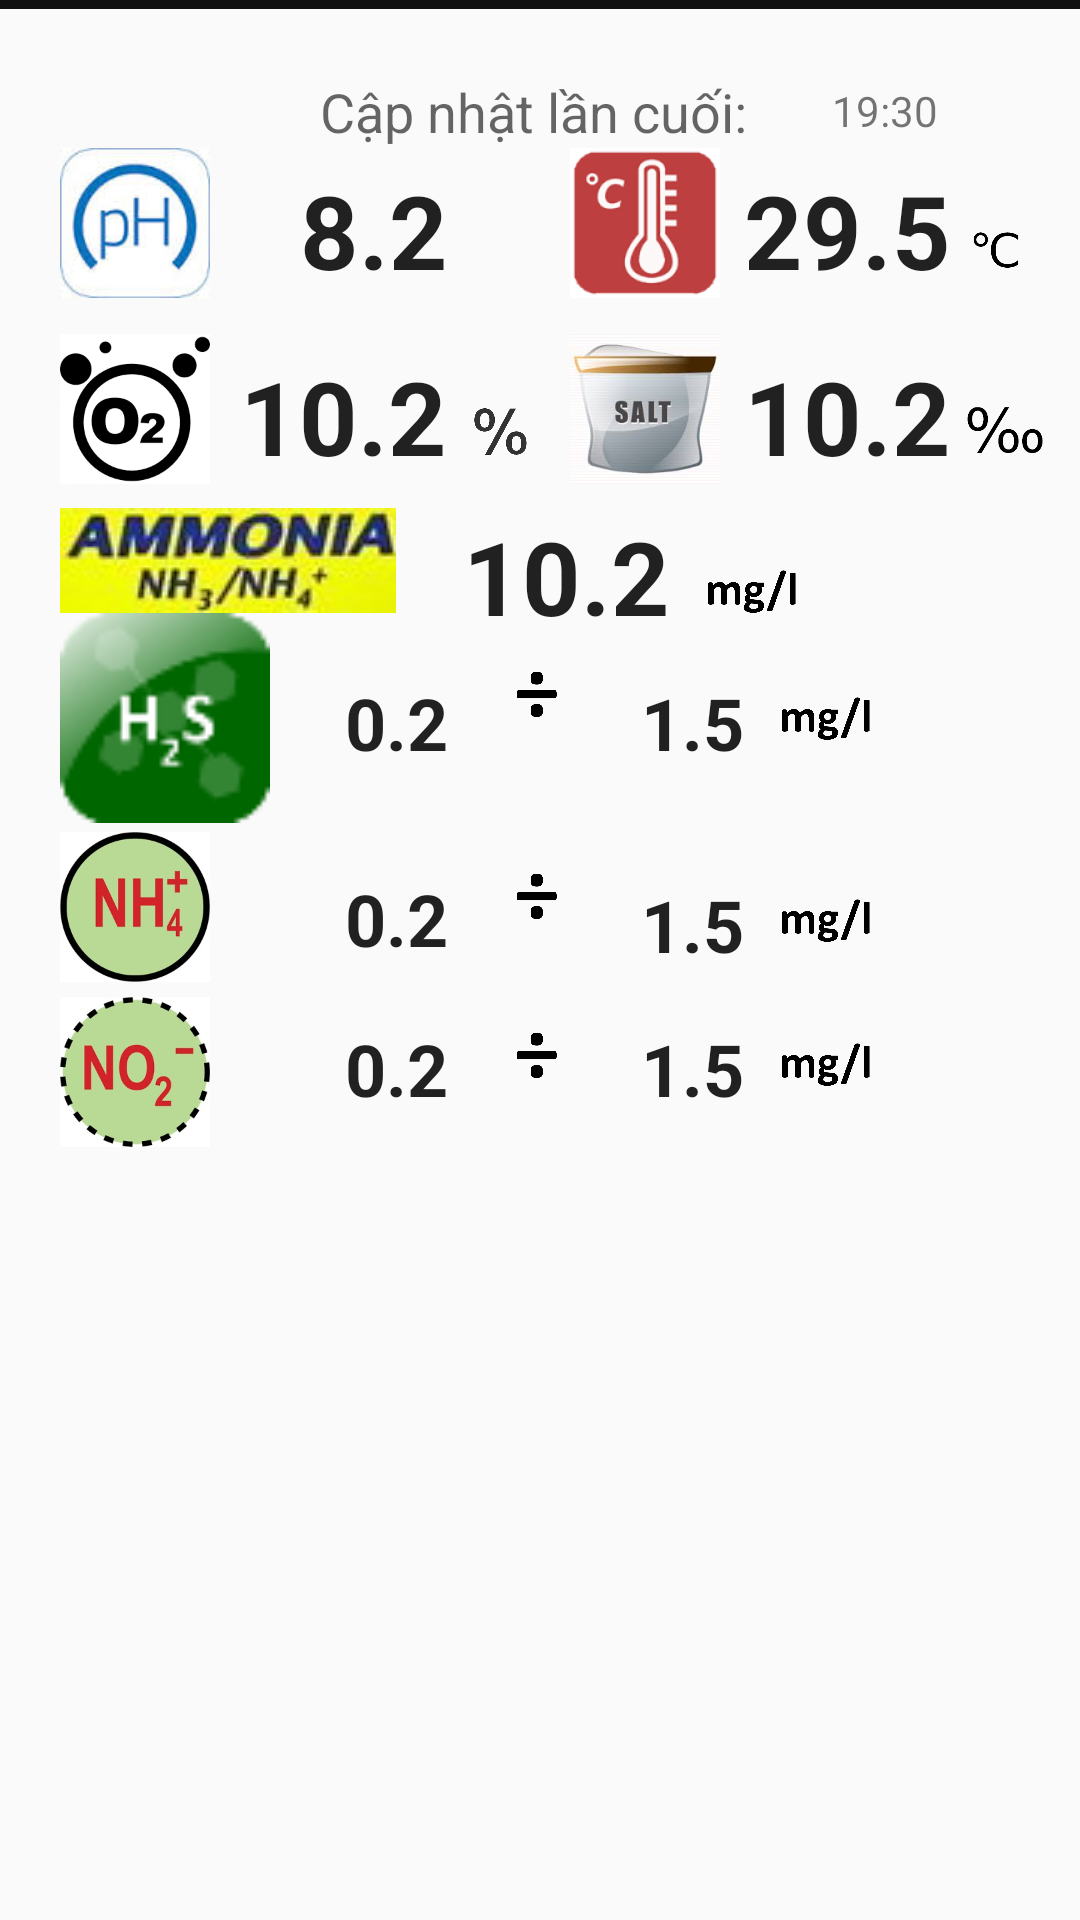

Icons on this 1080×1920 Android screen, each with the point to tap as (x=x, y=y):
oxygen: (x=135, y=409)
thermal: (x=645, y=223)
